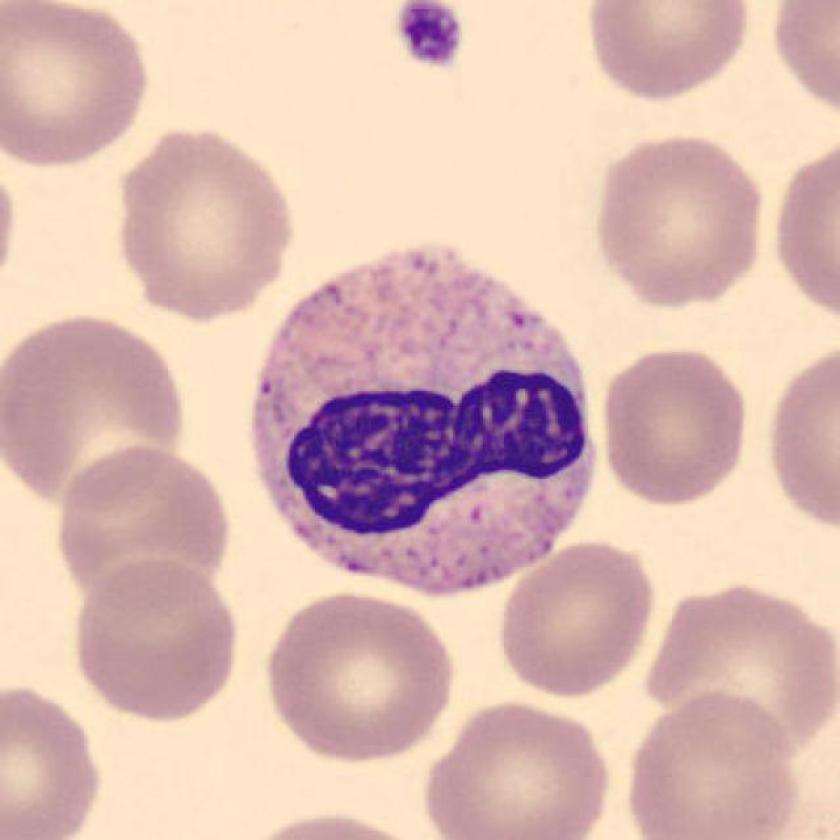neutrophil: (251, 245, 595, 592)
